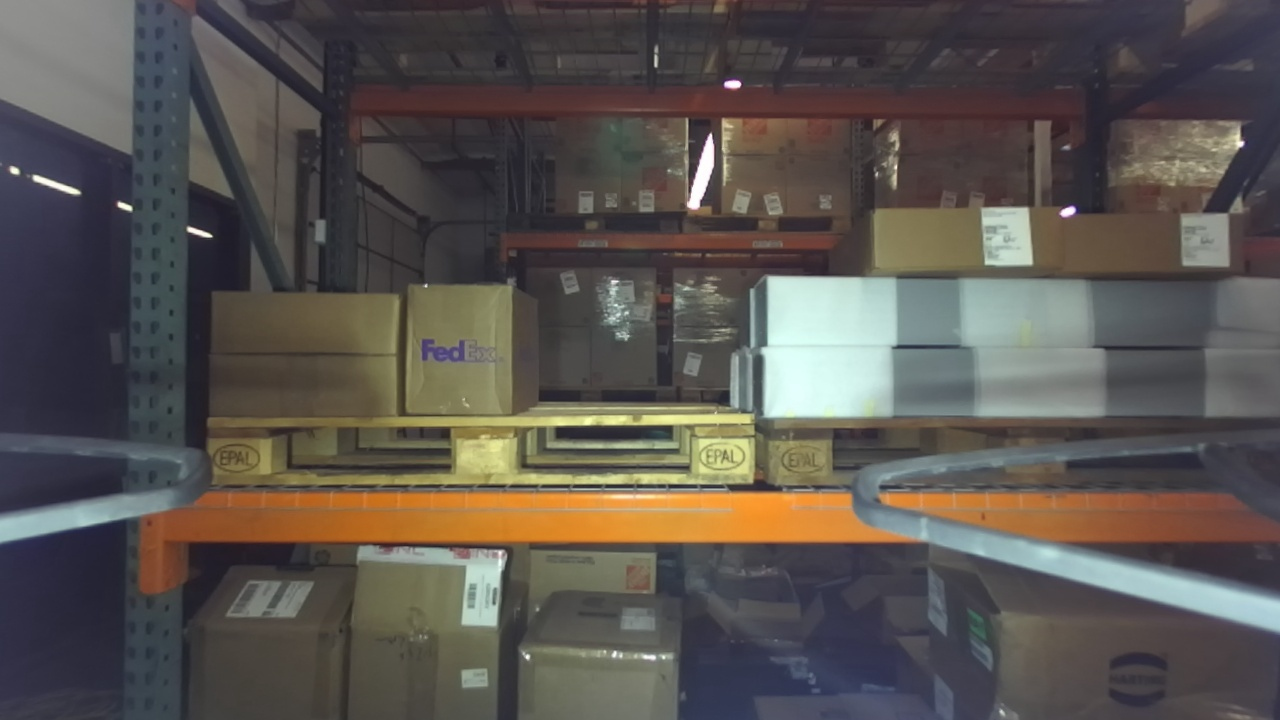box: (390, 267, 535, 431), (854, 194, 1071, 289), (1056, 194, 1255, 292), (189, 346, 403, 431), (190, 280, 404, 361)
